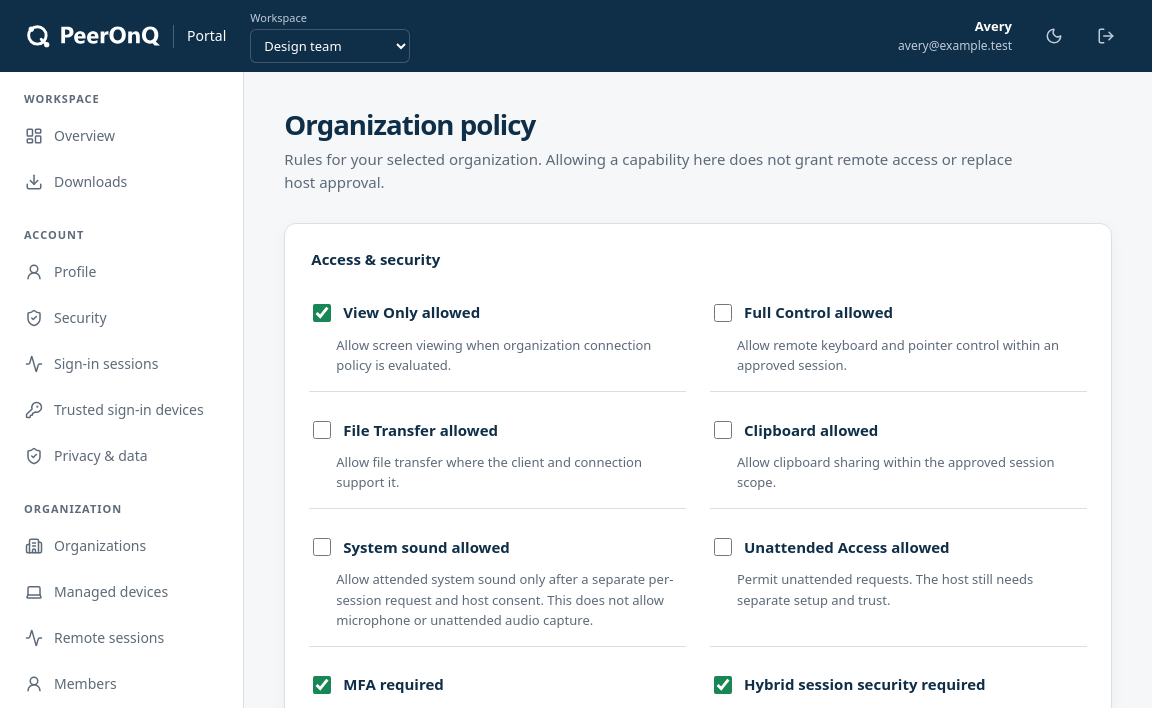
Scenario: customer portal product UX › keeps managed system sound off until an explicit supported policy opt-in
Click the checkbox labelled "System sound allowed".
click(322, 548)  # box x1=313 y1=538 x2=331 y2=556
(page scrolled)
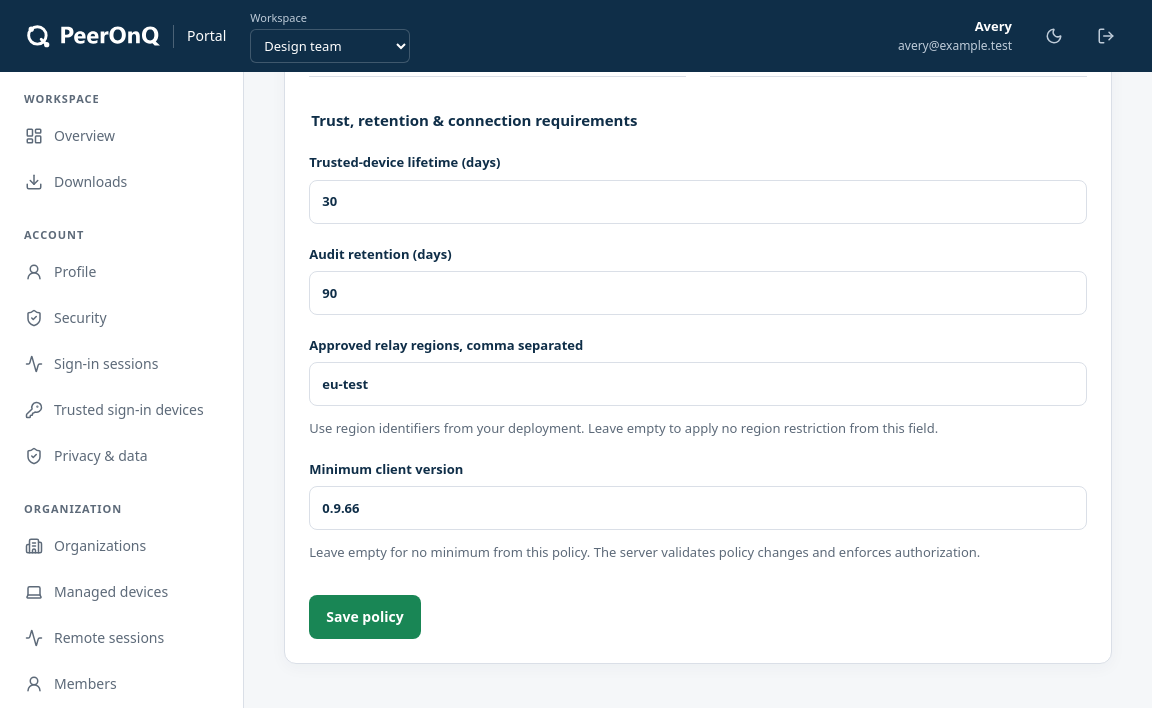
Click the button "Save policy".
click(365, 617)  # box x1=309 y1=595 x2=421 y2=639
(page scrolled)
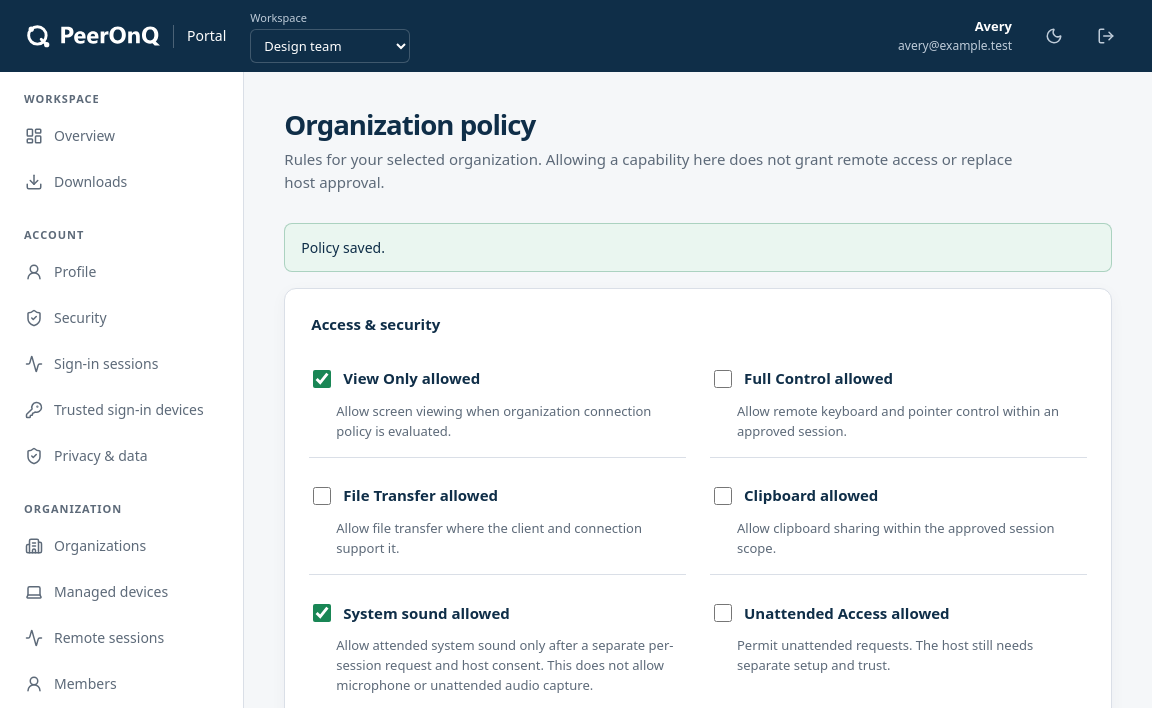
expect the text "Policy saved." is shown: met, box x1=284 y1=223 x2=1112 y2=272
